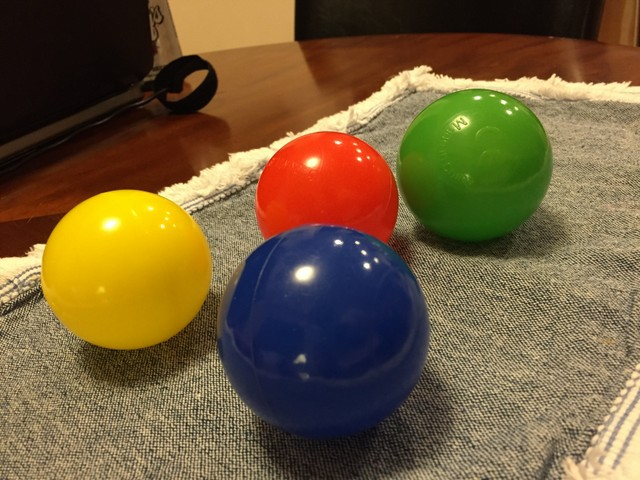Ball: (255, 128, 397, 250)
